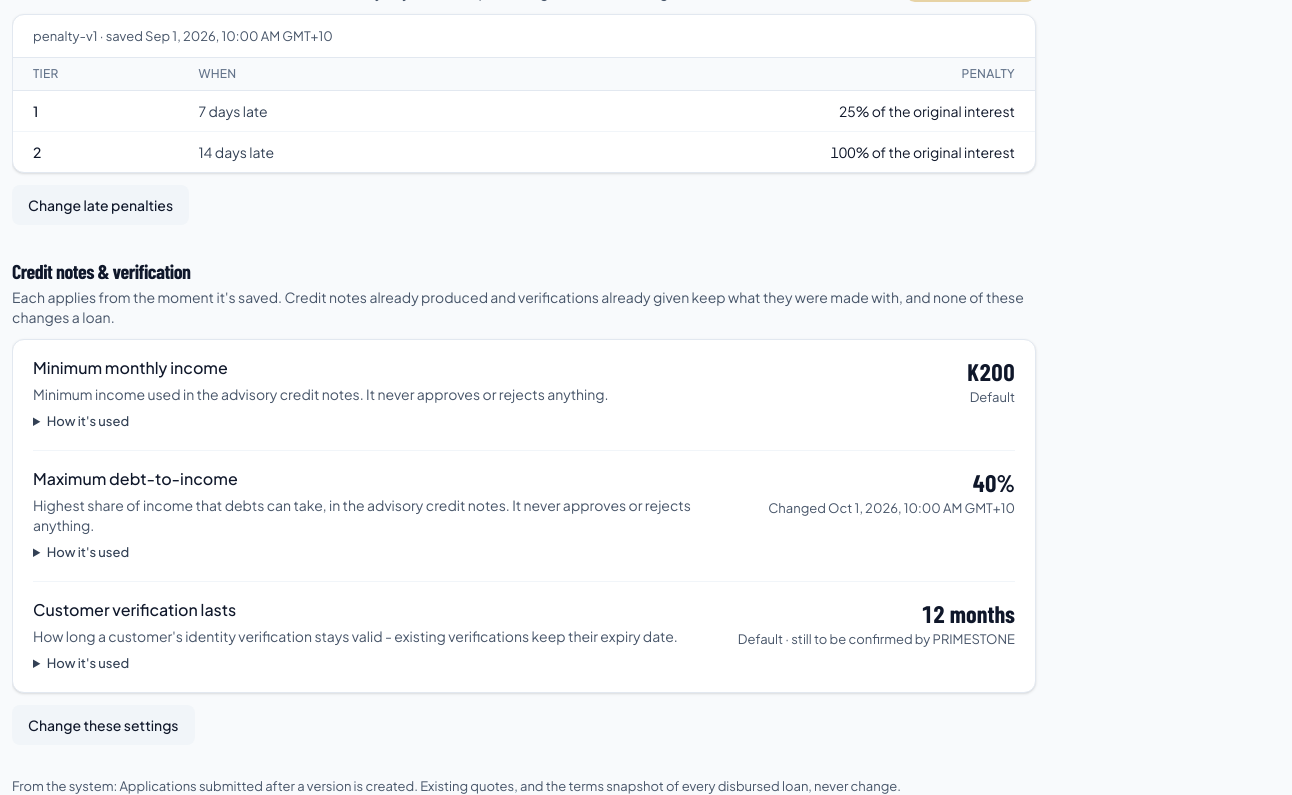
Test: Parameter management › puts name, value and a short explanation first; the longer one opens on request
(page scrolled)
Expected: the text "never approves or rejects anything" is shown, [33, 496, 691, 534]
Click the 2nd heading "How it's used": (88, 552) [47, 544, 129, 560]
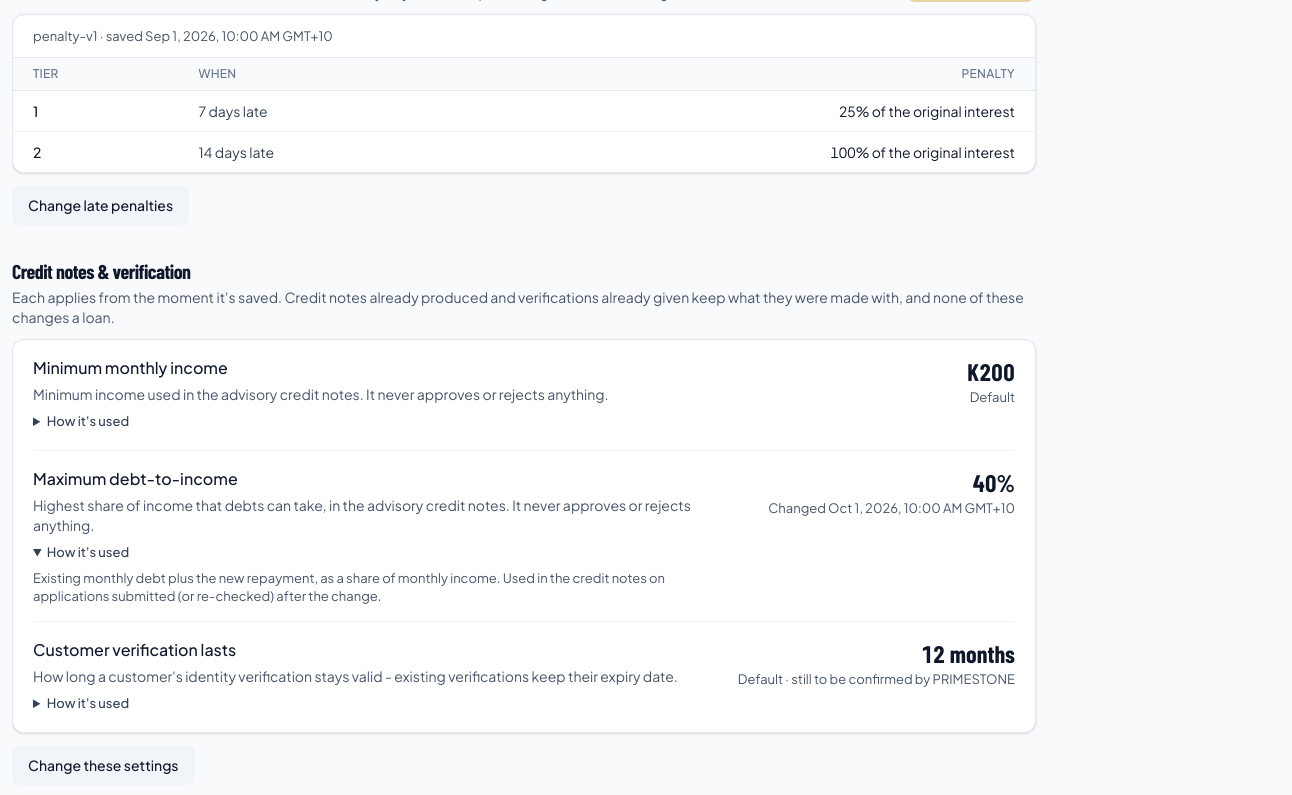
Expected: the text "as a share of monthly income" is shown, [33, 570, 665, 604]
